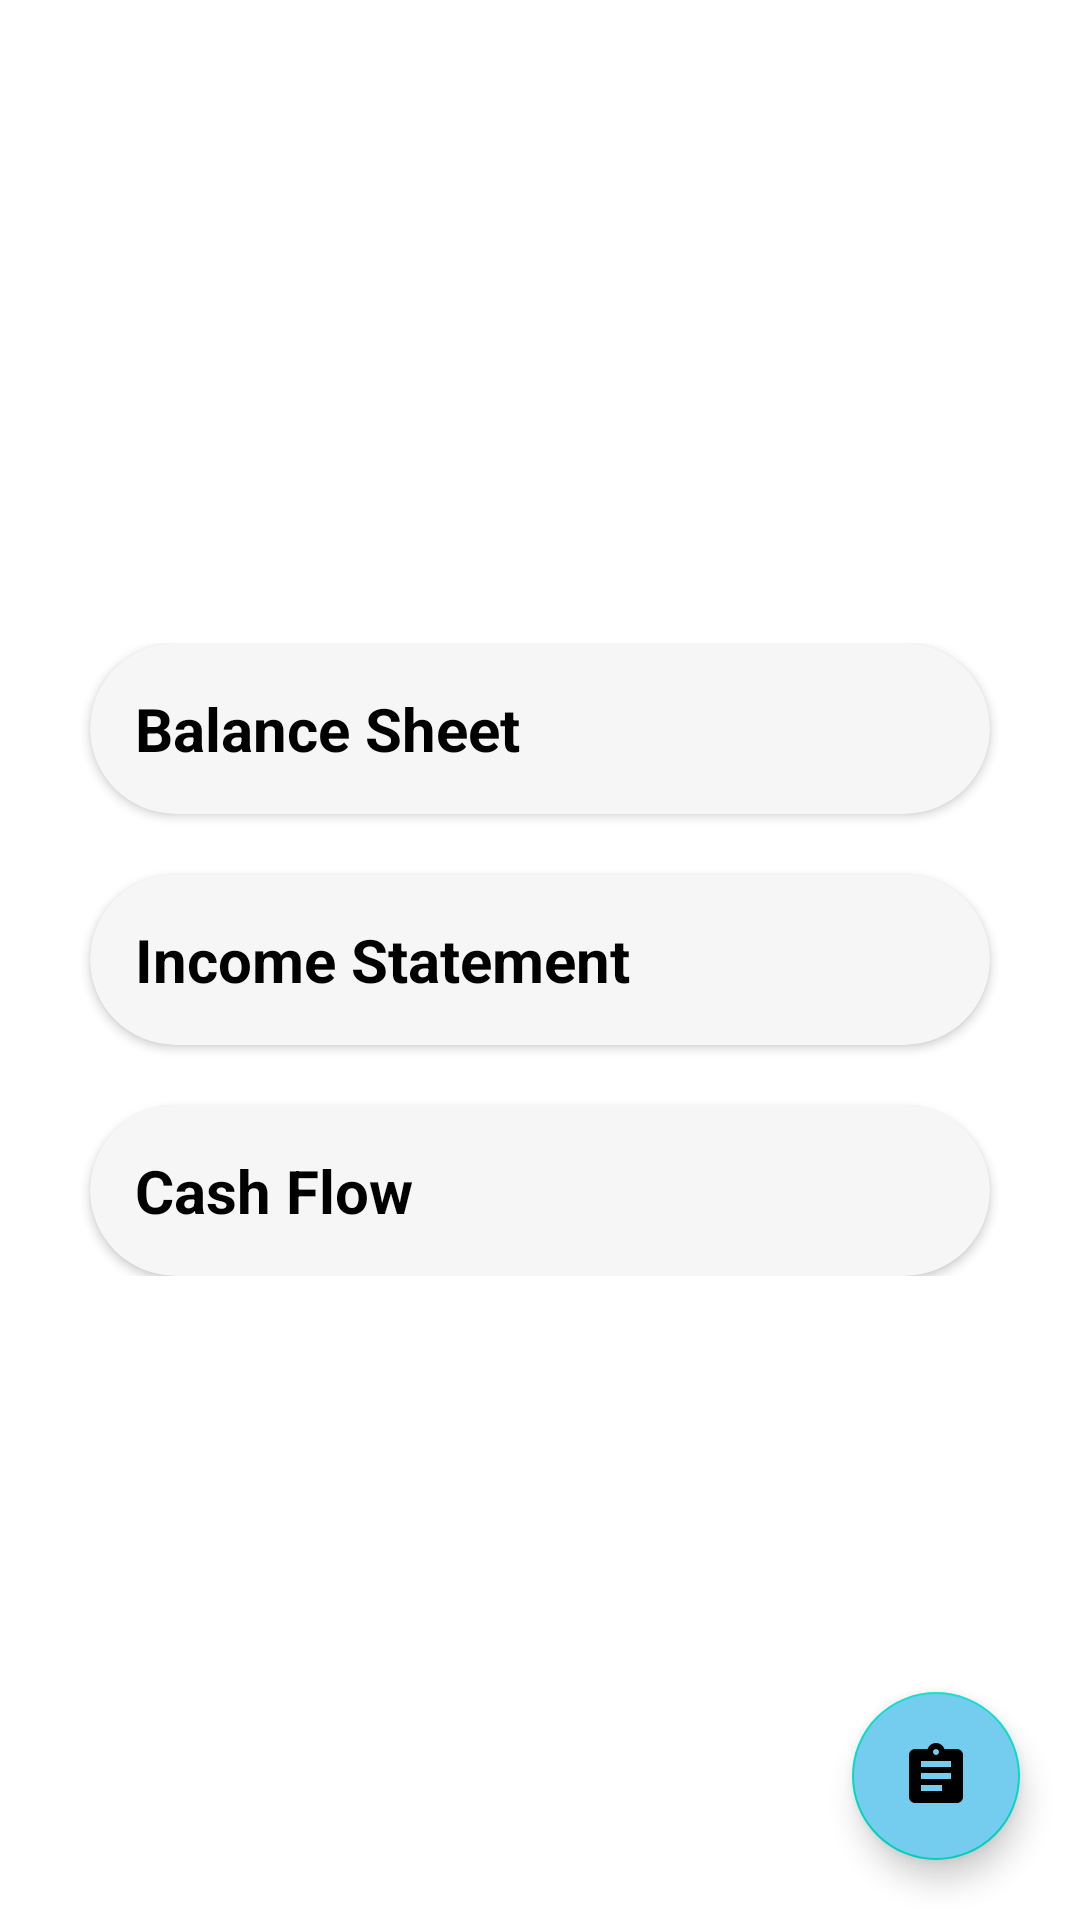

Icon click points for this 1080*1920 phone screenshot, format [x,y]:
clipboard: [936,1776]
